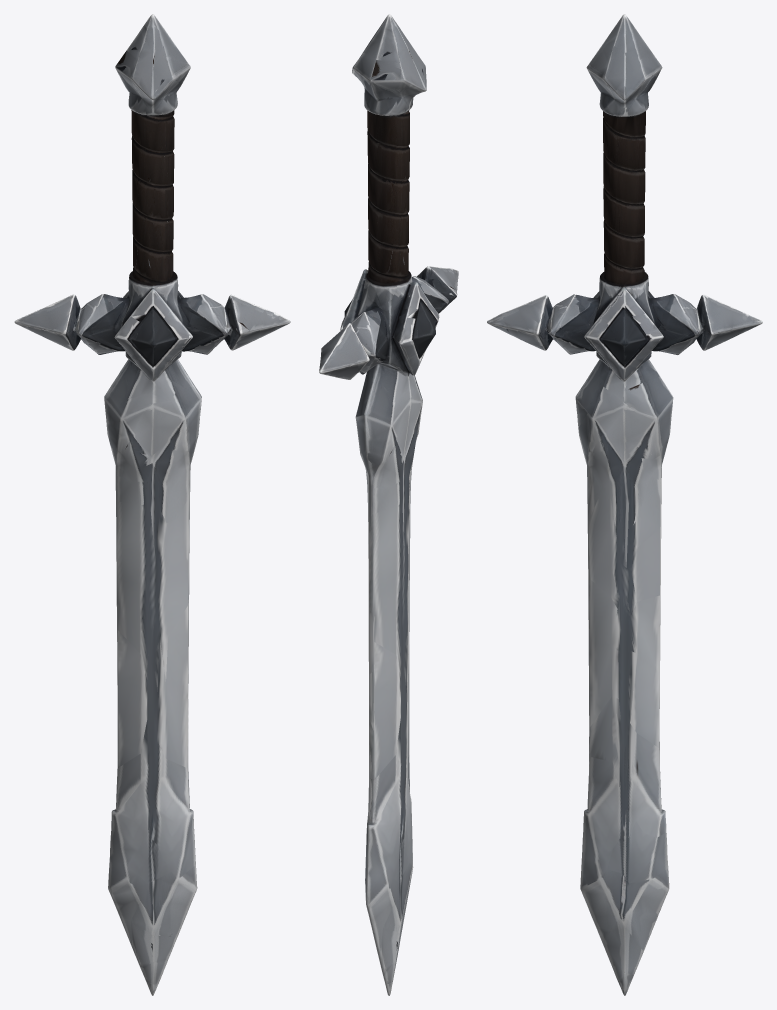
File: Sword_Steel.fbx
3 renders of one model, left to right at view 1: azimuth 90°, elevation 25°; view 2: azimuth 150°, elevation 25°; view 3: azimuth 270°, elevation 25°, orthographic.
Visible parts, largest first — view 1: Sword_Steel; view 2: Sword_Steel; view 3: Sword_Steel.
Part boxes in pixels (<box>): Sword_Steel: <box>14,14,290,995</box>; Sword_Steel: <box>319,14,458,995</box>; Sword_Steel: <box>487,14,762,995</box>.
Size of the model in its own units: 50.29 by 520 by 132.
Materials: 1 (1 with a texture image).
